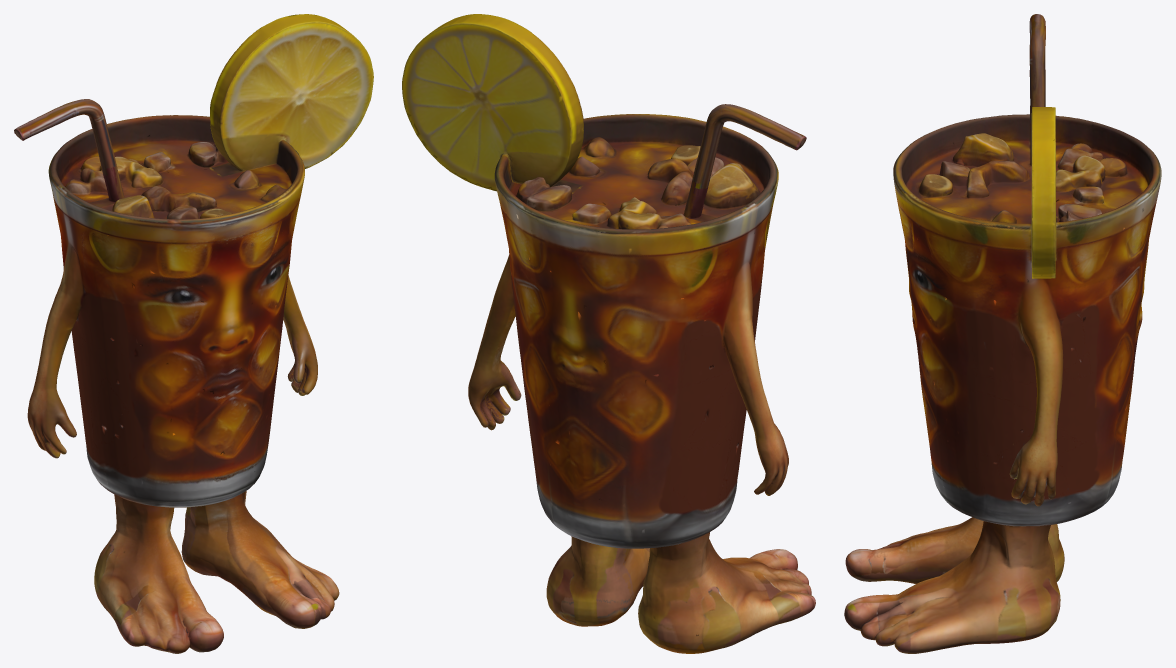
Rendered from brr_es_teh_patipum_brainrot_character.glb.
The picture shows the model from 3 angles, left to right: view 1: azimuth 30°, elevation 25°; view 2: azimuth 150°, elevation 25°; view 3: azimuth 270°, elevation 25°; orthographic projection. The views are drawn at different scales.
Visible parts, largest first — view 1: Object_2, Object_3; view 2: Object_2, Object_3; view 3: Object_2, Object_3.
Boxes of the visible parts, left/top/right/bottom form: Object_2: left=27, top=14, right=373, bottom=653; Object_3: left=14, top=17, right=369, bottom=652; Object_2: left=402, top=14, right=815, bottom=653; Object_3: left=402, top=15, right=811, bottom=652; Object_2: left=844, top=21, right=1161, bottom=653; Object_3: left=844, top=14, right=1161, bottom=651.
Size of the model in its own units: 1.4 by 2 by 1.04.
1 material, 1 textured.
